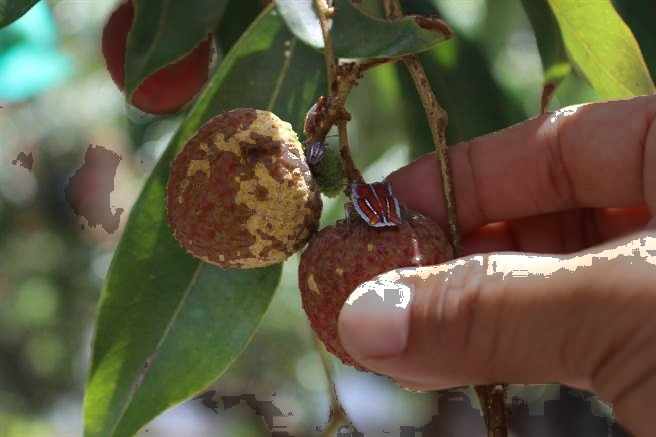Stink_Bug: (333, 161, 412, 230)
